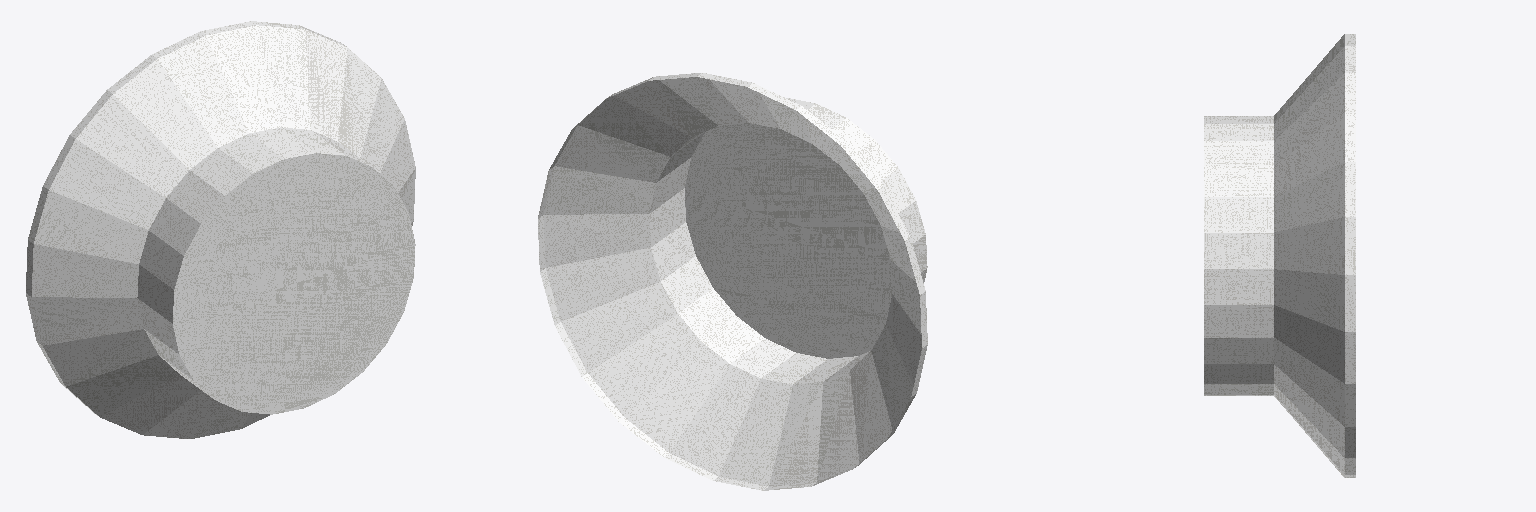
File: original-24.obj
3 renders of one model, left to right at view 1: azimuth 30°, elevation 25°; view 2: azimuth 150°, elevation 25°; view 3: azimuth 270°, elevation 25°, orthographic.
Parts seen in each view (by area): view 1: mesh33/mesh33-geometry/material_4#mesh33-geometry; view 2: mesh33/mesh33-geometry/material_4#mesh33-geometry; view 3: mesh33/mesh33-geometry/material_4#mesh33-geometry.
Part boxes in pixels (left/top/right/bottom): mesh33/mesh33-geometry/material_4#mesh33-geometry: left=26, top=21, right=415, bottom=438; mesh33/mesh33-geometry/material_4#mesh33-geometry: left=538, top=73, right=927, bottom=490; mesh33/mesh33-geometry/material_4#mesh33-geometry: left=1204, top=34, right=1355, bottom=477.
Size of the model in its own units: 0.183 by 0.183 by 0.0628.